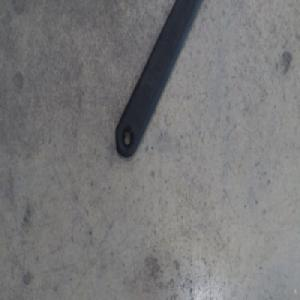AdjustableWrench: (116, 0, 204, 158)
